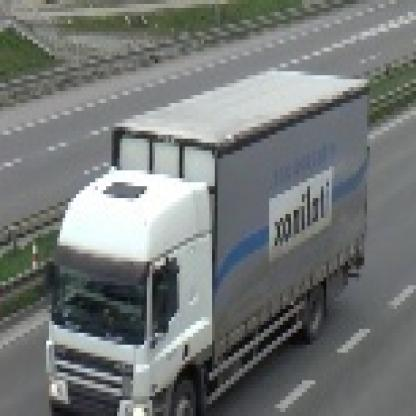truck: (26, 60, 368, 413)
